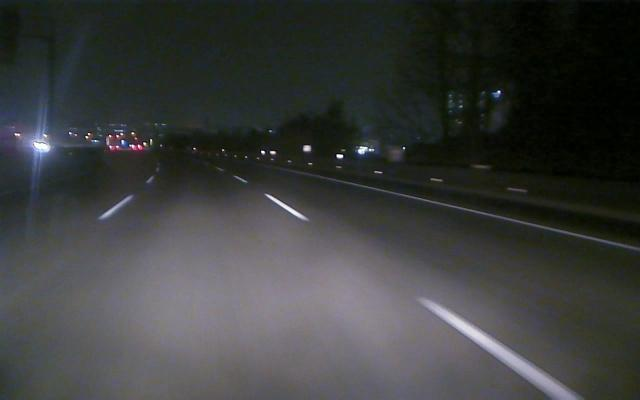lane: (262, 193, 586, 399), (323, 176, 640, 252), (101, 177, 152, 219)
